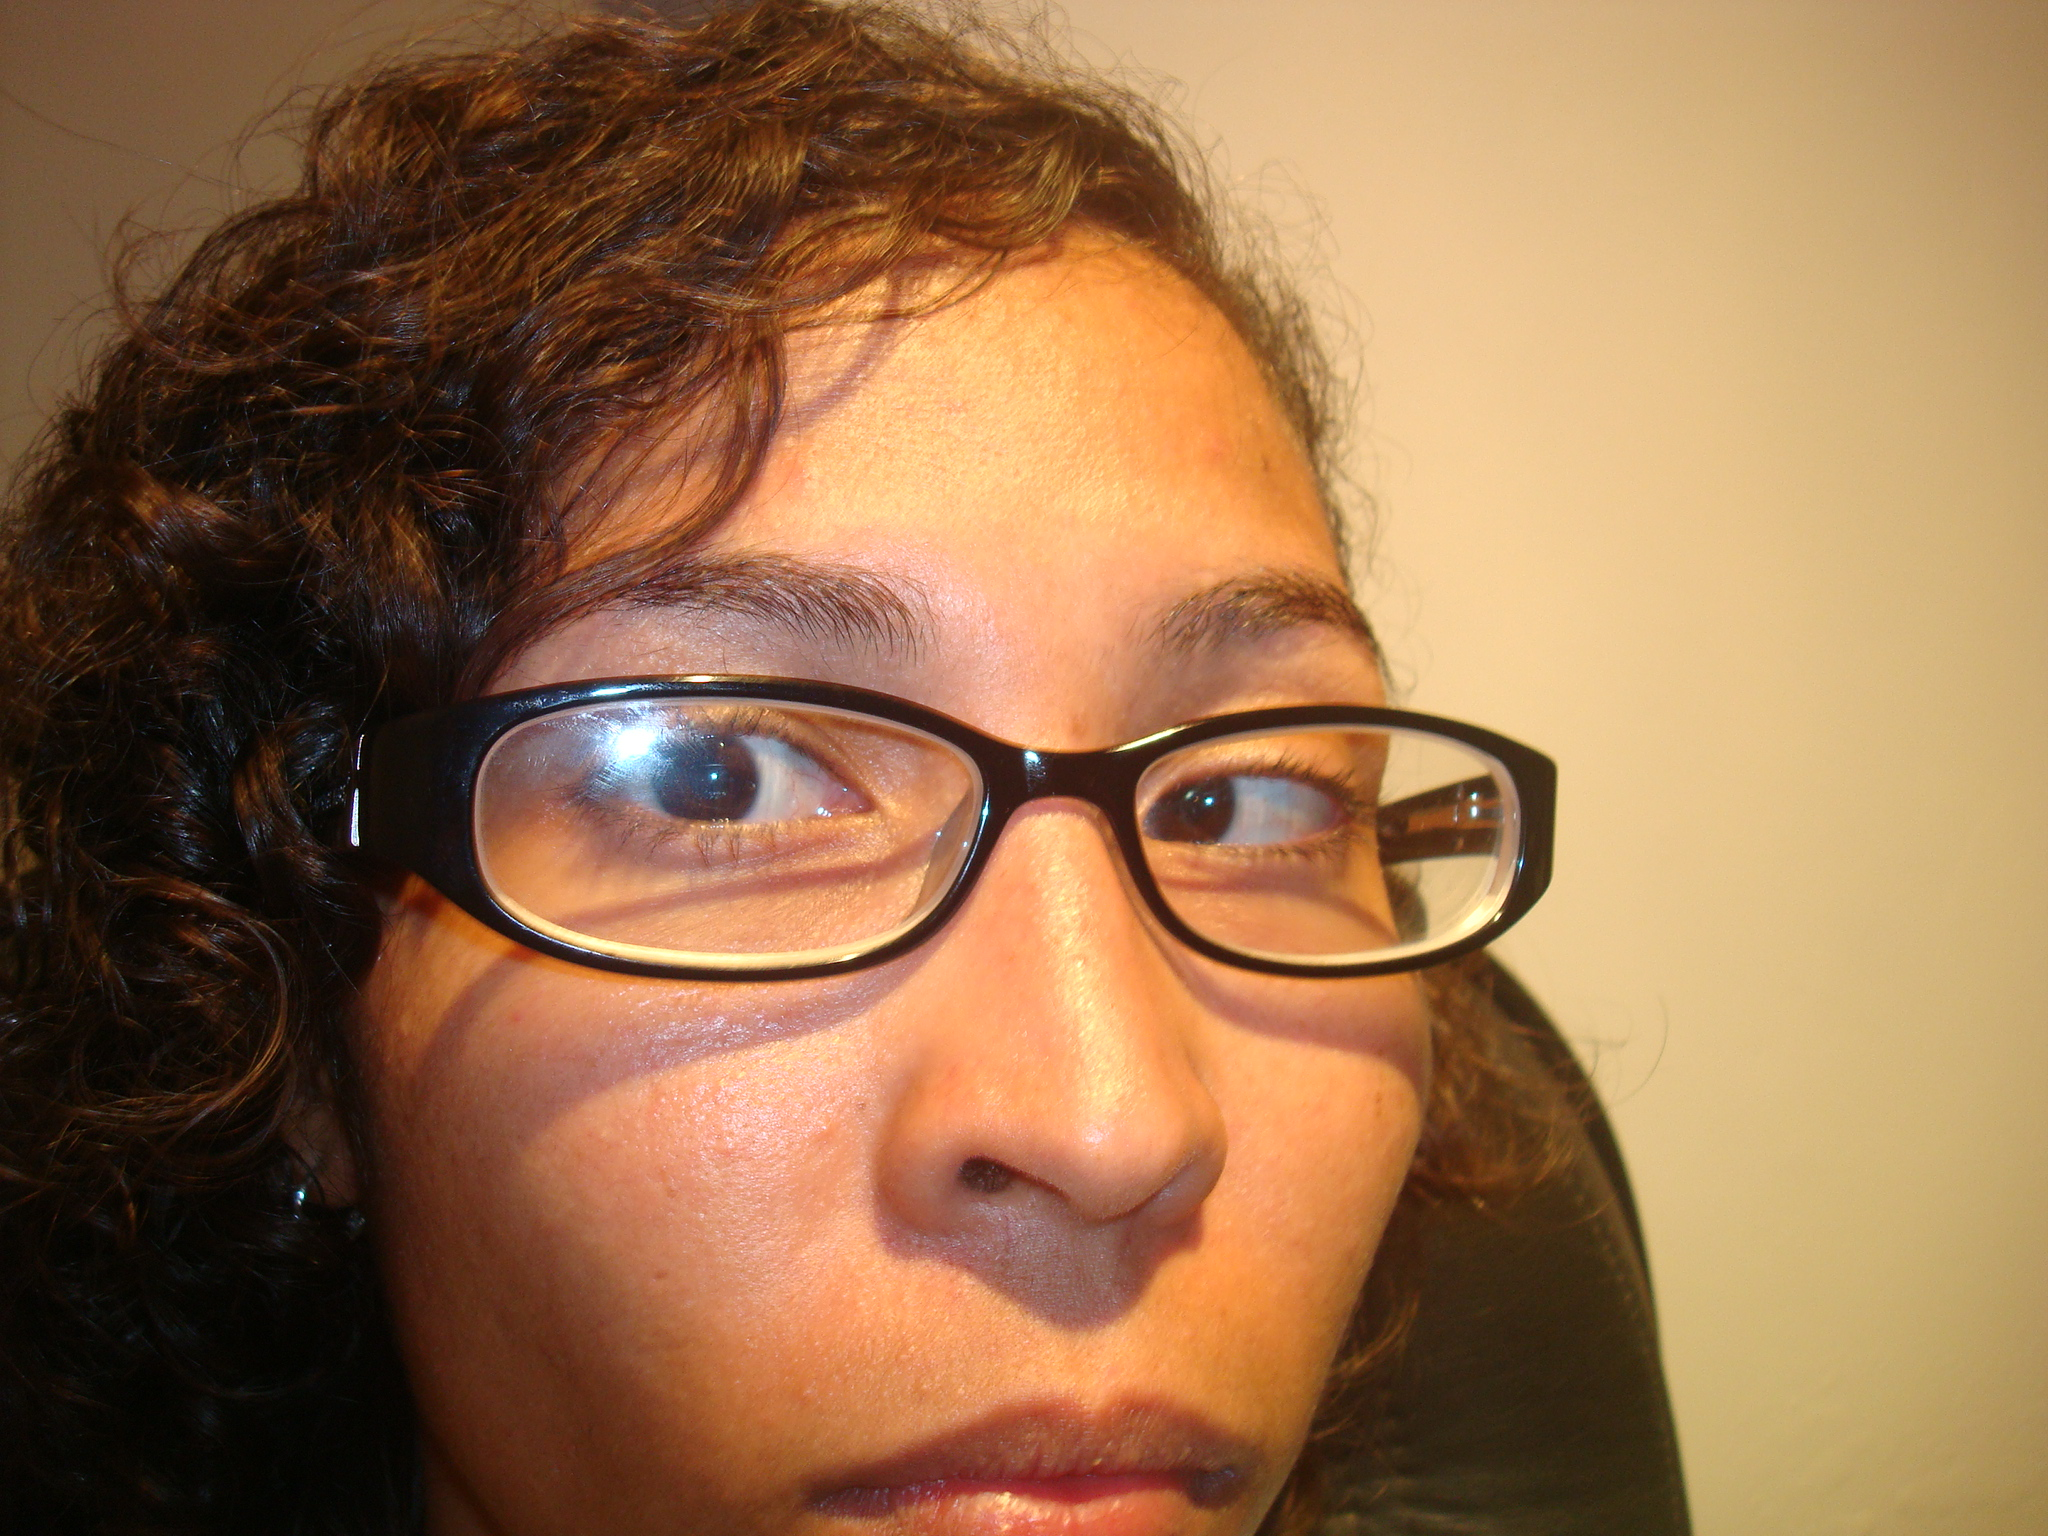flash: (706, 770, 721, 784), (1205, 795, 1214, 807)
limbo: (651, 733, 764, 824), (1145, 765, 1237, 842)
